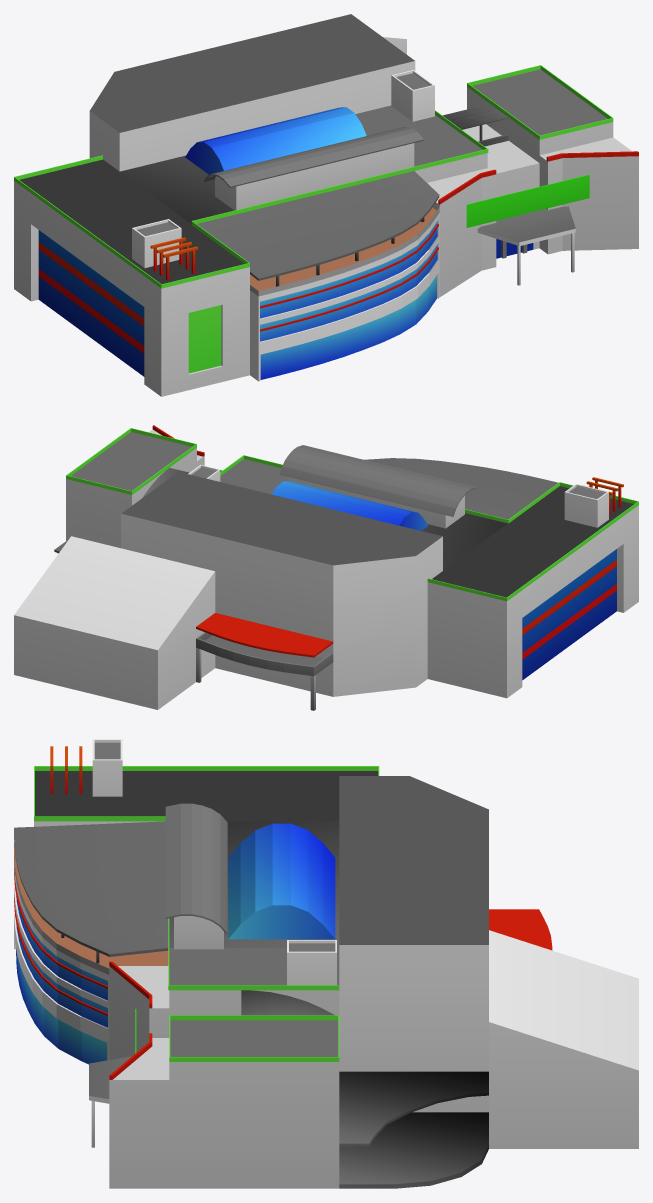
File: Gedung FIT (1).fbx
3 views of the same model, one above another, from view 1: azimuth 30°, elevation 25°; view 2: azimuth 150°, elevation 25°; view 3: azimuth 270°, elevation 25° (orthographic). The views are drawn at different scales.
Visible parts, largest first — view 1: Gedung FIT; view 2: Gedung FIT; view 3: Gedung FIT.
Part boxes in pixels (x1=…): Gedung FIT: x1=14, y1=14, x2=638, y2=396; Gedung FIT: x1=14, y1=425, x2=638, y2=710; Gedung FIT: x1=14, y1=739, x2=638, y2=1188.
Bounding box in the file's own units: 6900 × 1900 × 6255.
1 material, 1 textured.
